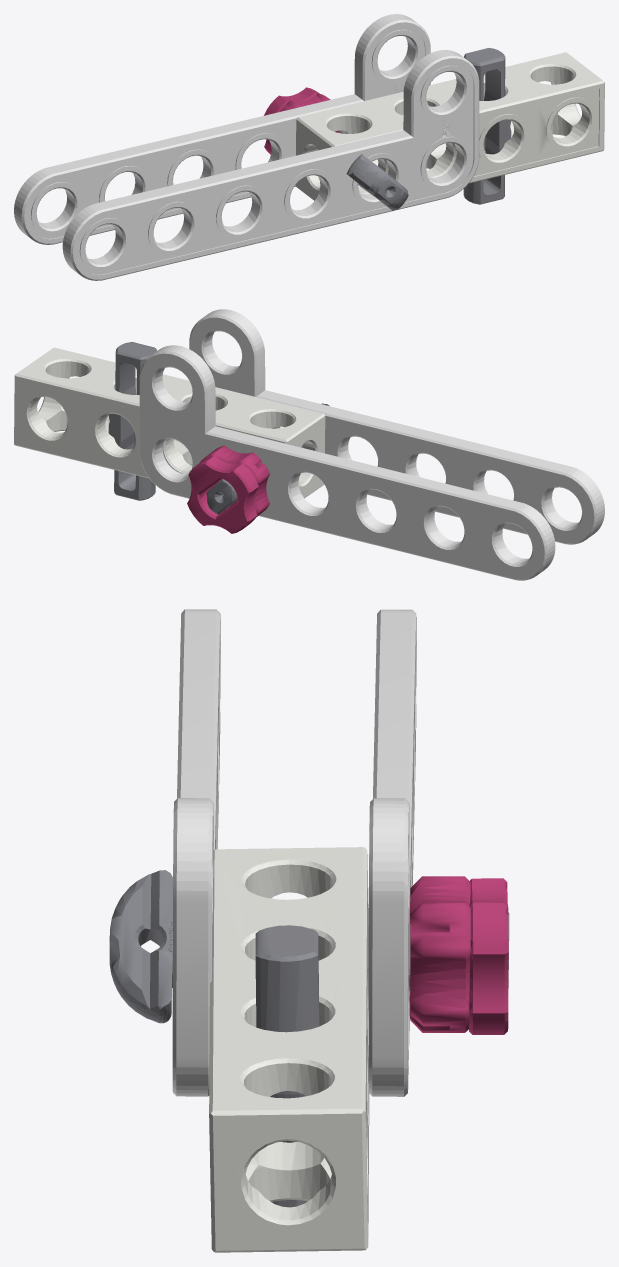
File: state2.fbx
3 renders of one model, top to bottom at view 1: azimuth 30°, elevation 25°; view 2: azimuth 150°, elevation 25°; view 3: azimuth 270°, elevation 25°, orthographic. The views are drawn at different scales.
Visible parts, largest first — view 1: Brace AGD 90 ASYM ERR BU02x06x01x00.25 - SPN-BRC-1003 (stemf; view 2: Brace AGD 90 ASYM ERR BU02x06x01x00.25 - SPN-BRC-1003 (stemf; view 3: Brace AGD 90 ASYM ERR BU02x06x01x00.25 - SPN-BRC-1003 (stemf.
Boxes of the visible parts, x1=… form: Brace AGD 90 ASYM ERR BU02x06x01x00.25 - SPN-BRC-1003 (stemf: x1=14, y1=14, x2=604, y2=280; Brace AGD 90 ASYM ERR BU02x06x01x00.25 - SPN-BRC-1003 (stemf: x1=14, y1=309, x2=604, y2=580; Brace AGD 90 ASYM ERR BU02x06x01x00.25 - SPN-BRC-1003 (stemf: x1=109, y1=609, x2=509, y2=1252.
Size of the model in its own units: 9985 by 3125 by 3192.
